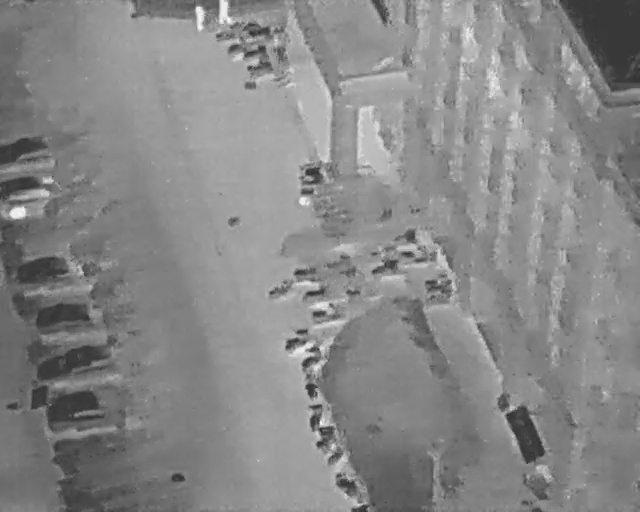Bicycle: (328, 465, 368, 506), (279, 321, 317, 356), (262, 273, 298, 305), (367, 253, 403, 281), (308, 299, 343, 327), (400, 243, 436, 270), (244, 54, 277, 81), (319, 249, 352, 272), (300, 344, 324, 375), (270, 26, 290, 63), (298, 165, 330, 186), (390, 224, 420, 246), (323, 443, 347, 470), (239, 41, 269, 62), (367, 239, 396, 260), (316, 423, 336, 453), (425, 276, 454, 295), (423, 271, 451, 290), (299, 284, 328, 302), (303, 378, 323, 404), (308, 402, 323, 433), (225, 40, 248, 60), (212, 27, 240, 43), (298, 188, 319, 208), (292, 263, 318, 278), (248, 24, 273, 39), (238, 18, 263, 33), (353, 501, 373, 510)
Car: (29, 338, 124, 386), (41, 382, 125, 433), (5, 246, 85, 295), (30, 294, 105, 334), (0, 173, 61, 218), (0, 128, 56, 173)
Person: (217, 0, 233, 26), (195, 3, 207, 32)
